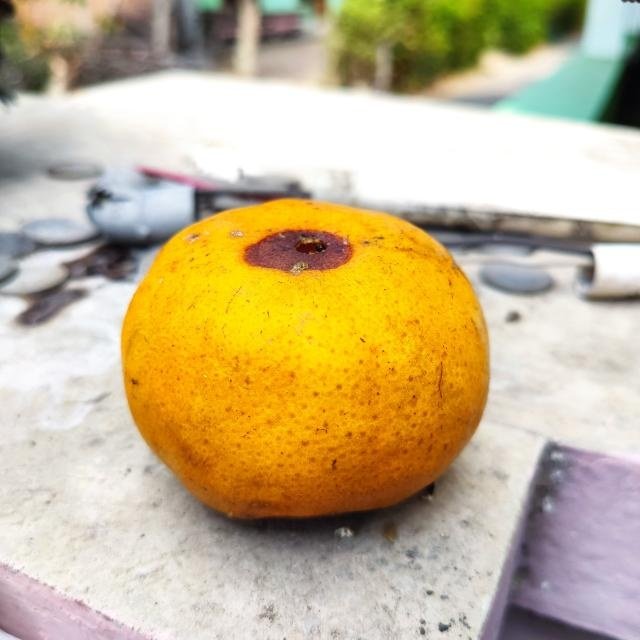agrume: (116, 195, 491, 524)
